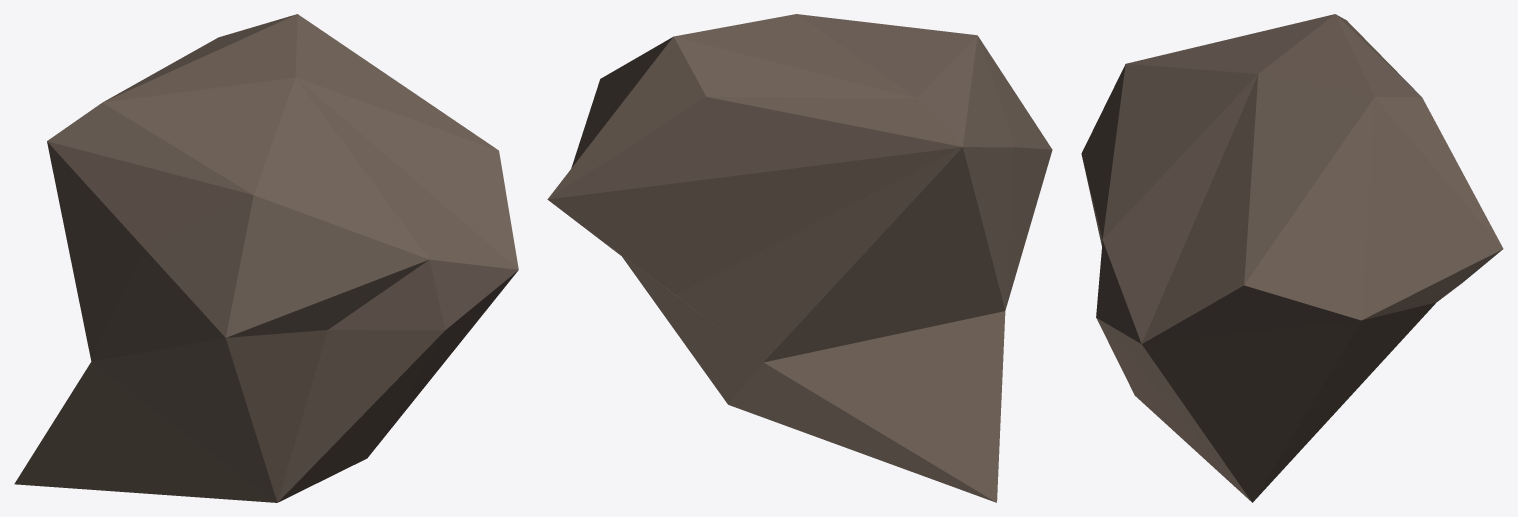
File: Piedra_1.fbx
The picture shows the model from 3 angles, left to right: view 1: azimuth 30°, elevation 25°; view 2: azimuth 150°, elevation 25°; view 3: azimuth 270°, elevation 25°; orthographic projection. The views are drawn at different scales.
Parts seen in each view (by area): view 1: pPlatonic1; view 2: pPlatonic1; view 3: pPlatonic1.
Boxes of the visible parts, x1,y1,x2,y2 form: pPlatonic1: [14, 14, 518, 502]; pPlatonic1: [547, 14, 1052, 502]; pPlatonic1: [1081, 14, 1503, 502].
Bounding box in the file's own units: 2.4 × 2.13 × 2.02.
